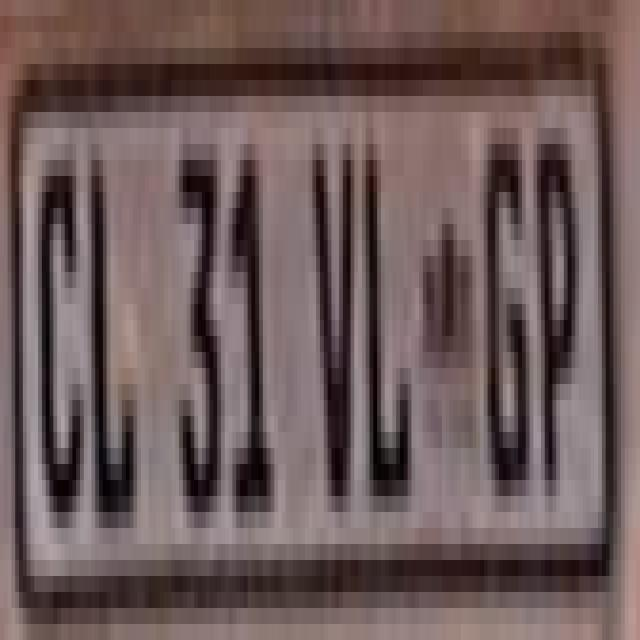1: (230, 128, 277, 524)
3: (176, 112, 223, 524)
C: (33, 137, 85, 526)
G: (481, 115, 532, 510)
L: (87, 136, 142, 524), (362, 123, 414, 508)
P: (535, 112, 580, 496)
V: (309, 126, 358, 521)
